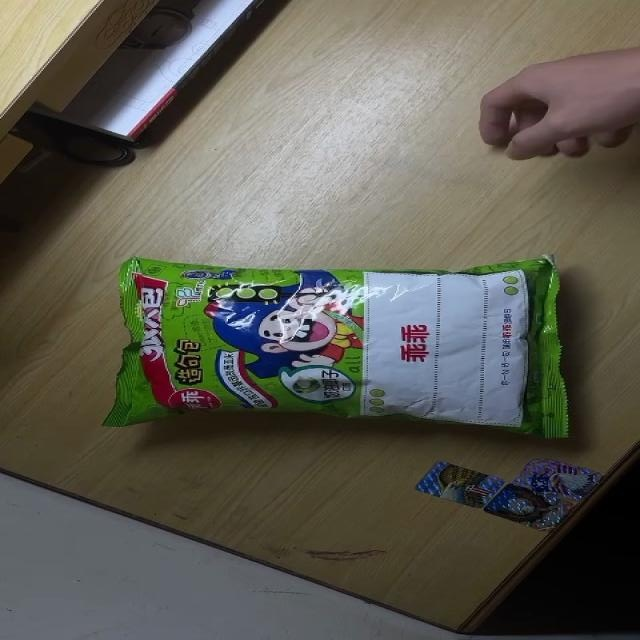Good-Luck: (101, 255, 568, 439)
